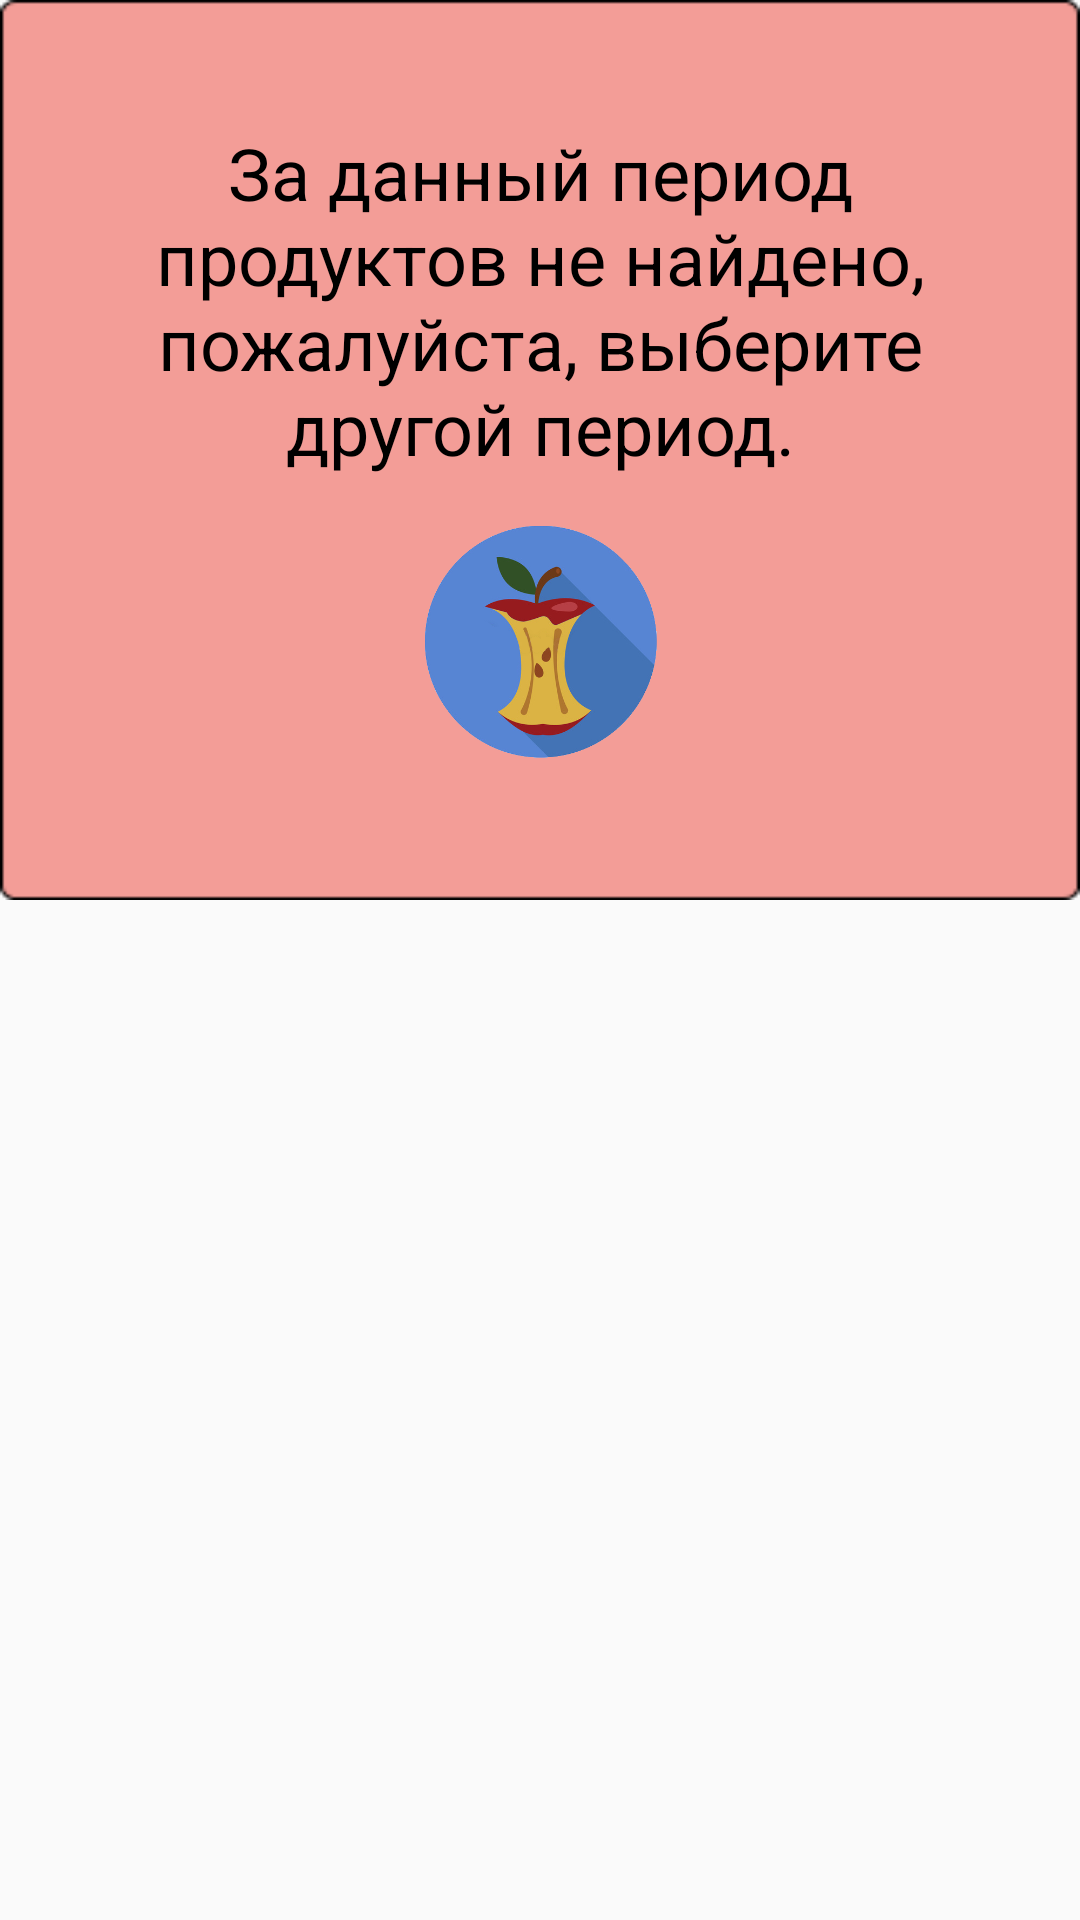

Icon click points for this 1080x1920 phone screenshot, format [x,y]:
apple: [541,642]
